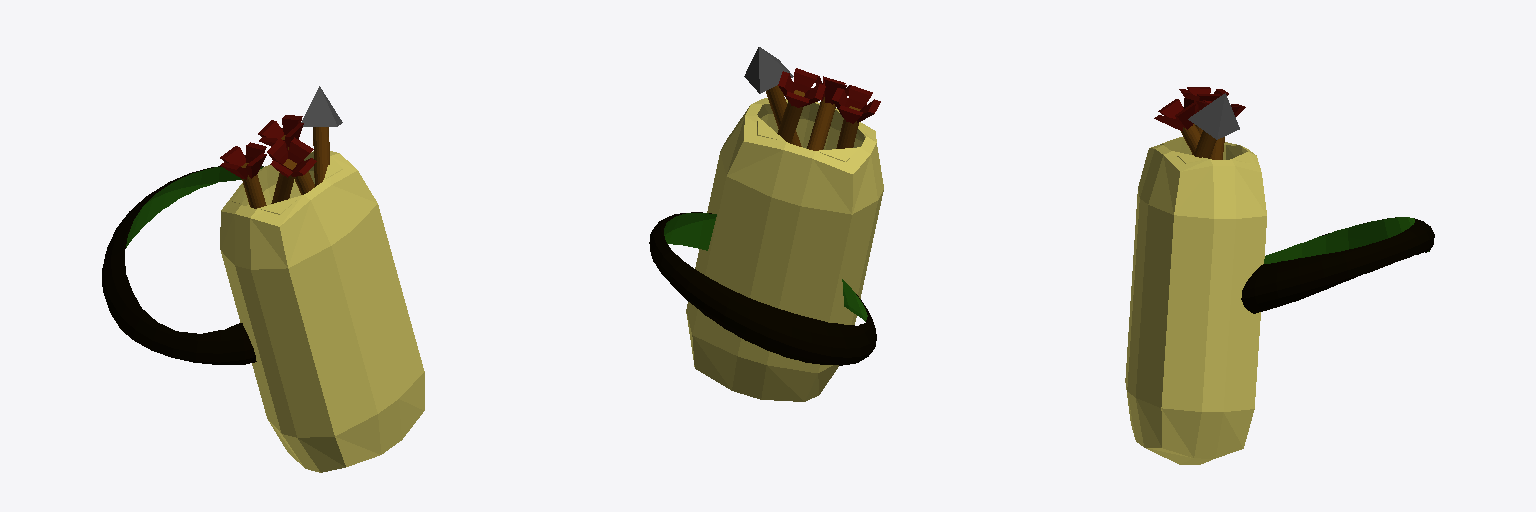
The model's file is quiver.obj.
3 views of the same model, side by side, from view 1: azimuth 30°, elevation 25°; view 2: azimuth 150°, elevation 25°; view 3: azimuth 270°, elevation 25° (orthographic).
Visible parts, largest first — view 1: Box001, Sphere007, Pyramid009, Cylinder003, Pyramid006, Pyramid001, Pyramid004, Pyramid003, Cylinder001; view 2: Box001, Sphere007, Pyramid009, Cylinder002, Cylinder004, Pyramid010, Pyramid012, Pyramid001, Cylinder003, Pyramid003; view 3: Box001, Sphere007, Pyramid009, Pyramid004.
Boxes of the visible parts, box(x1,y1,x2,y2) form: Box001: box(220, 151, 424, 472); Sphere007: box(102, 166, 263, 364); Pyramid009: box(301, 86, 342, 126); Cylinder003: box(313, 127, 329, 186); Pyramid006: box(267, 138, 316, 176); Pyramid001: box(220, 146, 266, 178); Pyramid004: box(270, 137, 313, 177); Pyramid003: box(220, 142, 266, 179); Cylinder001: box(241, 163, 266, 208); Box001: box(686, 98, 883, 401); Sphere007: box(649, 212, 876, 365); Pyramid009: box(744, 47, 793, 93); Cylinder002: box(807, 97, 835, 150); Cylinder004: box(777, 90, 804, 143); Pyramid010: box(778, 71, 825, 106); Pyramid012: box(786, 68, 817, 107); Pyramid001: box(839, 85, 872, 123); Cylinder003: box(766, 85, 801, 146); Pyramid003: box(832, 88, 880, 122); Box001: box(1125, 137, 1266, 464); Sphere007: box(1241, 217, 1434, 313); Pyramid009: box(1188, 93, 1239, 139); Pyramid004: box(1158, 99, 1195, 129).
Size of the model in its own units: 15.95 by 23.98 by 18.58.